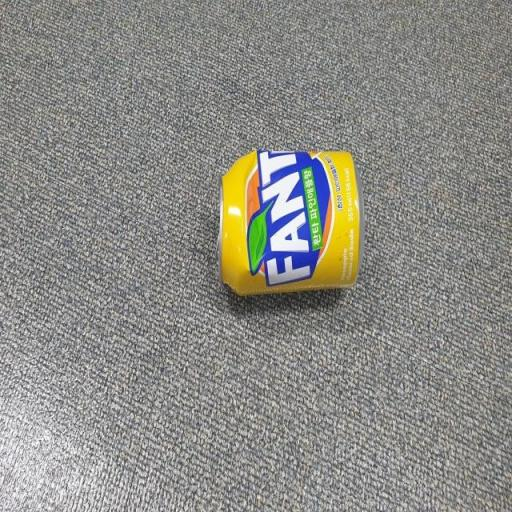metal: (192, 115, 385, 335)
